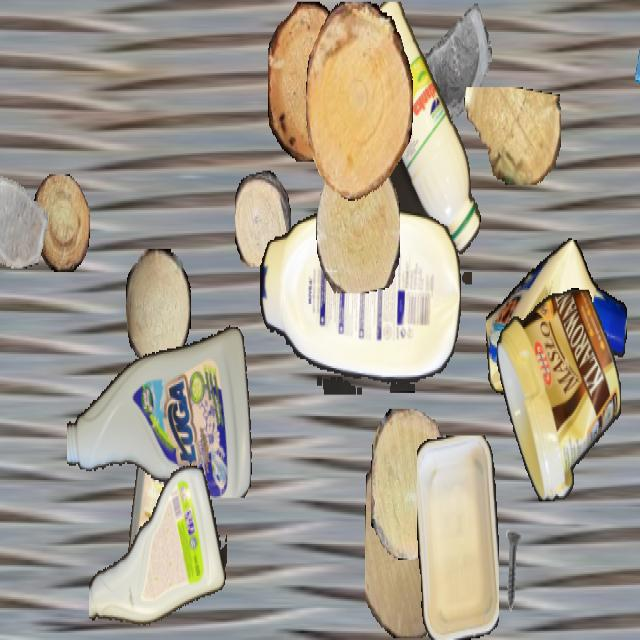glass: (420, 2, 492, 130), (0, 164, 47, 266), (633, 1, 640, 116)
metal: (430, 439, 490, 546), (488, 528, 536, 613)
plastic: (260, 210, 460, 394), (352, 1, 482, 282), (67, 313, 255, 498), (496, 288, 620, 501), (89, 457, 227, 638), (486, 237, 626, 407), (417, 436, 499, 638), (123, 386, 189, 602)
wood: (306, 2, 412, 201), (365, 439, 453, 638), (268, 2, 350, 162), (316, 150, 400, 292), (371, 409, 451, 558), (463, 87, 561, 183), (126, 249, 190, 363), (33, 174, 89, 270), (235, 170, 291, 266)
